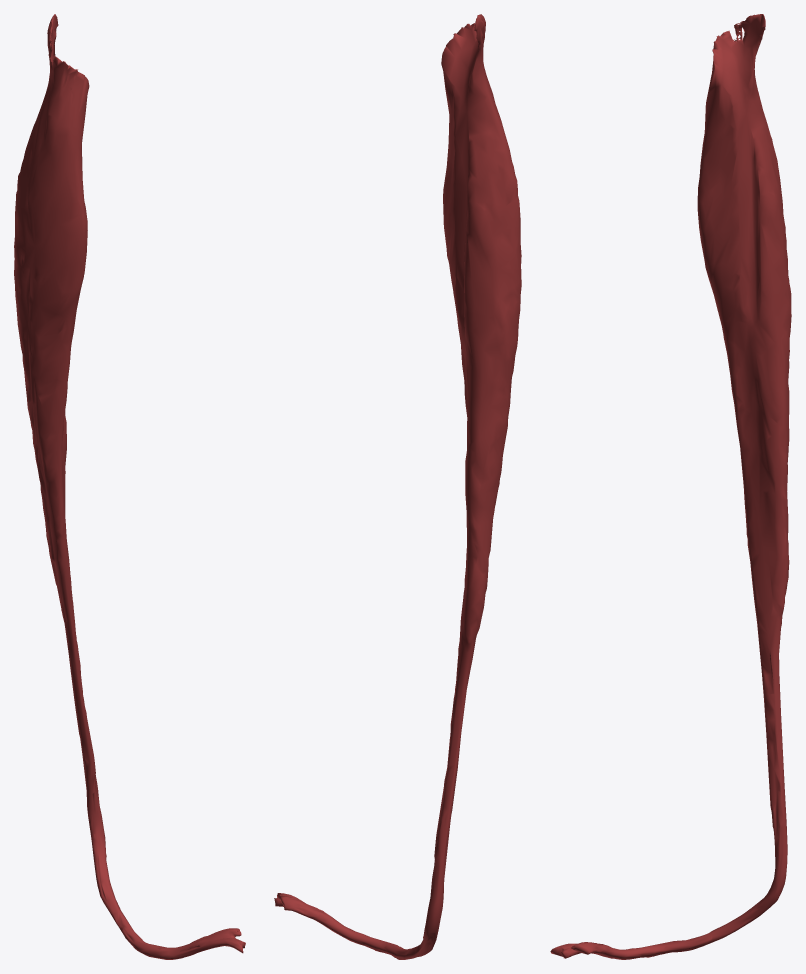
The model's file is fibularis-longus-muscle-r.glb.
The picture shows the model from 3 angles, left to right: view 1: azimuth 30°, elevation 25°; view 2: azimuth 210°, elevation 25°; view 3: azimuth 270°, elevation 25°; orthographic projection. The views are drawn at different scales.
Parts seen in each view (by area): view 1: Fibularis longus muscle.r; view 2: Fibularis longus muscle.r; view 3: Fibularis longus muscle.r.
Boxes of the visible parts, x1=… form: Fibularis longus muscle.r: x1=14, y1=14, x2=245, y2=959; Fibularis longus muscle.r: x1=274, y1=14, x2=521, y2=959; Fibularis longus muscle.r: x1=550, y1=14, x2=791, y2=959.
Bounding box in the file's own units: 0.0587 × 0.3792 × 0.0897.
